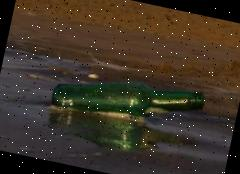glass: (51, 63, 206, 137)
